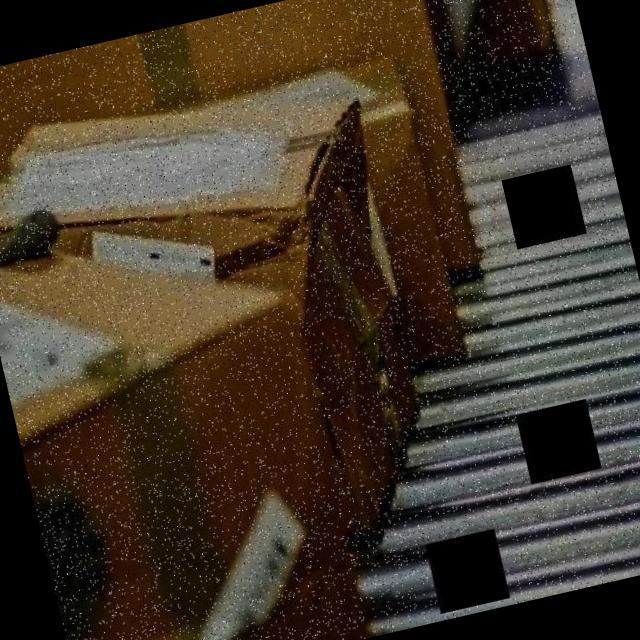box: (0, 48, 451, 599)
